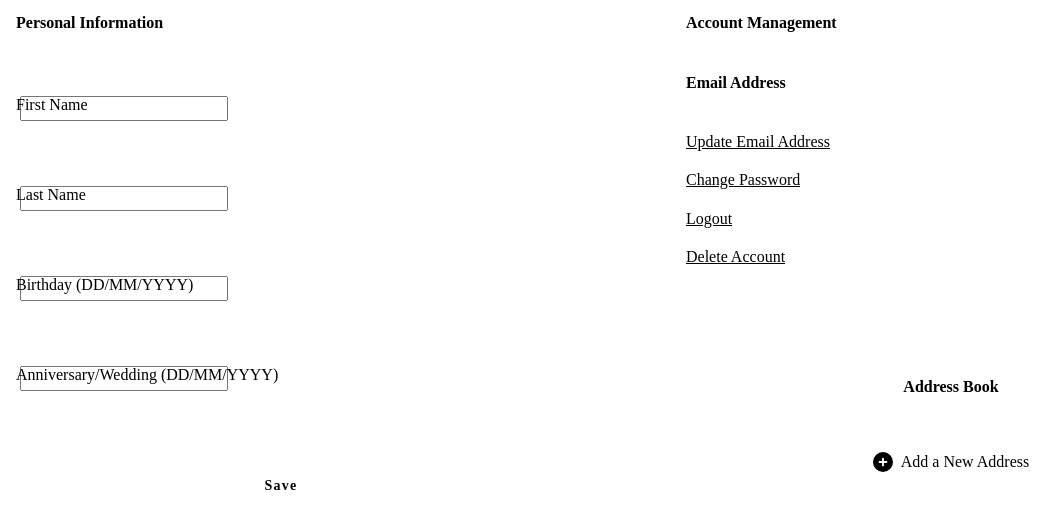
AccountDetails Component › Should load user address book popup
This screenshot has width=1052, height=515.
Click the button with test id "add-address-book-button". click: click(951, 462)
box: [867,451,1035,473]
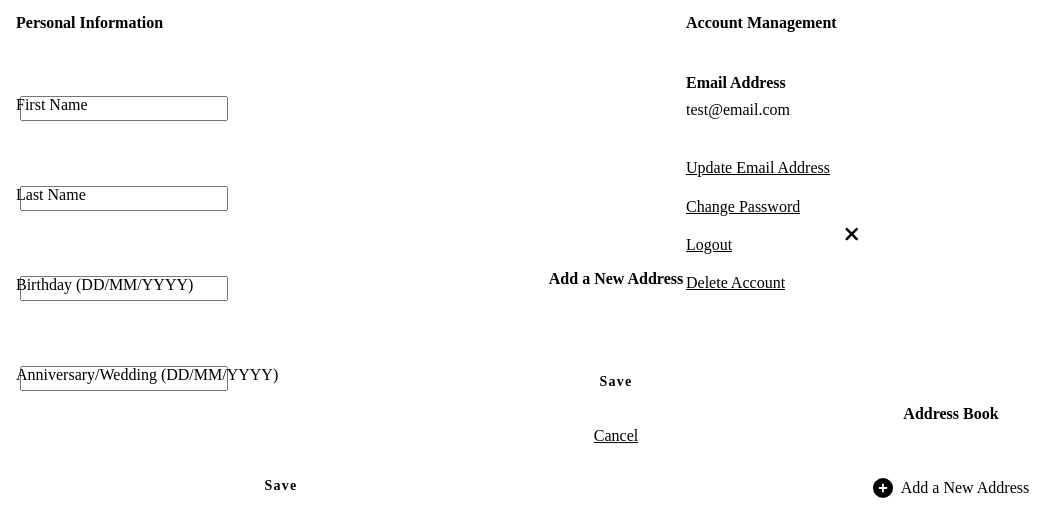
Expected: the element with test id "address-information-form-popup" is shown, [387,198,885,470]
